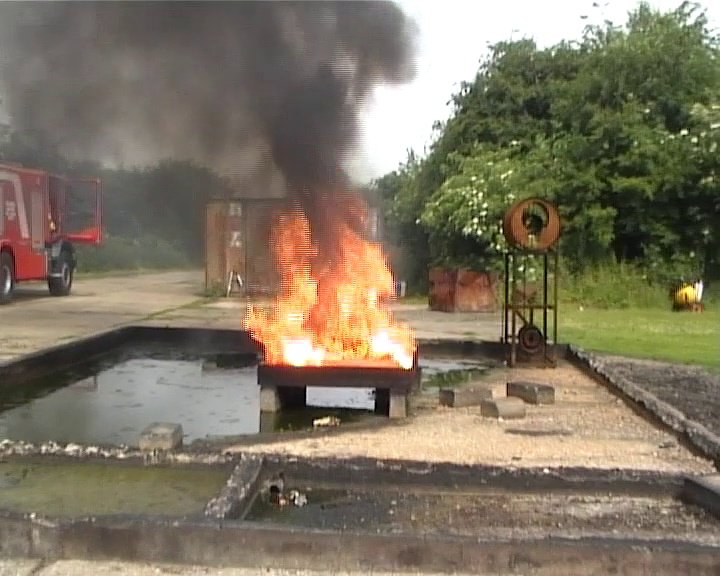fire: (262, 222, 410, 367)
